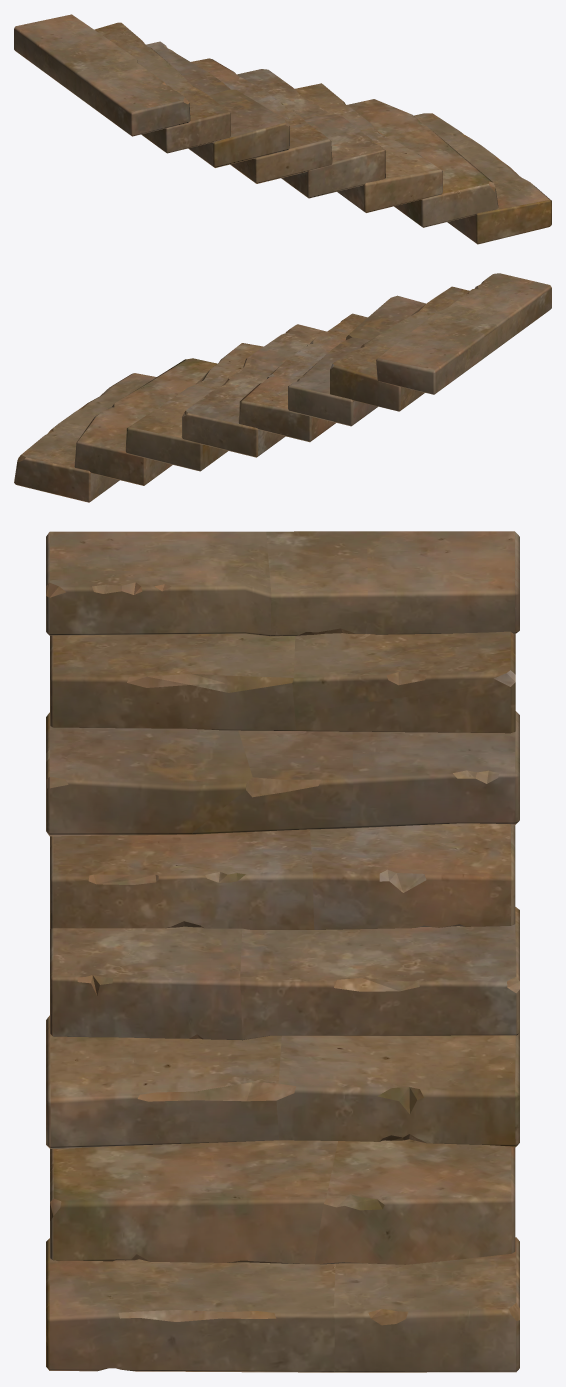
The picture shows the model from 3 angles, top to bottom: view 1: azimuth 30°, elevation 25°; view 2: azimuth 150°, elevation 25°; view 3: azimuth 270°, elevation 25°; orthographic projection. The views are drawn at different scales.
Parts seen in each view (by area): view 1: SM_Vault_2m_Stairs_02v1_LOD0; view 2: SM_Vault_2m_Stairs_02v1_LOD0; view 3: SM_Vault_2m_Stairs_02v1_LOD0.
Boxes of the visible parts, box(x1,y1,x2,y2) form: SM_Vault_2m_Stairs_02v1_LOD0: box(14, 14, 551, 244); SM_Vault_2m_Stairs_02v1_LOD0: box(14, 273, 551, 502); SM_Vault_2m_Stairs_02v1_LOD0: box(46, 531, 519, 1372).
Bounding box in the file's own units: 4.11 × 2.02 × 2.
Materials: 1 (1 with a texture image).
